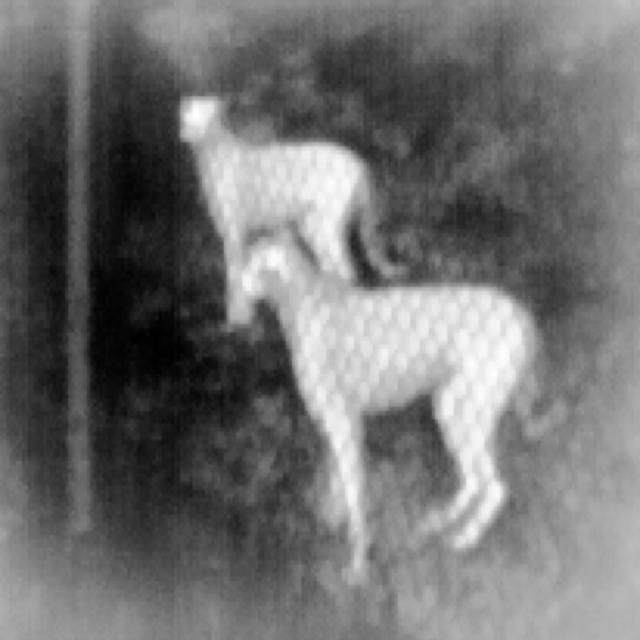cheetah: (242, 230, 539, 580), (179, 96, 407, 332)
